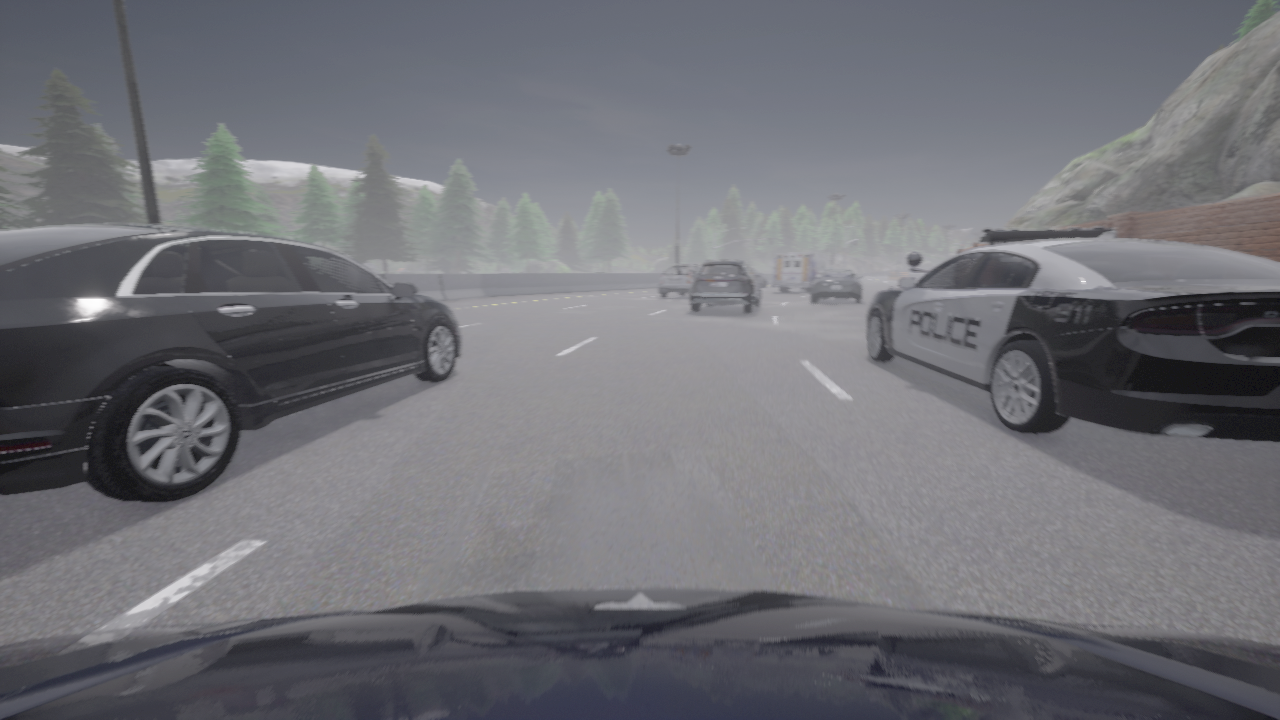cyclist: (0, 588, 1279, 719), (0, 223, 460, 503), (866, 227, 1279, 442), (688, 259, 759, 313), (772, 252, 832, 292), (811, 269, 862, 303), (658, 265, 699, 298), (750, 268, 766, 287)
